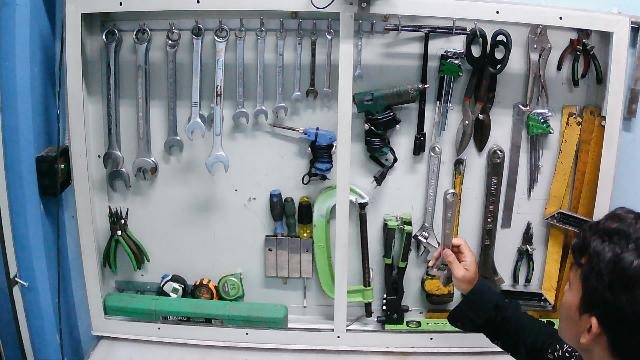kunci_inggris: (412, 144, 461, 288)
